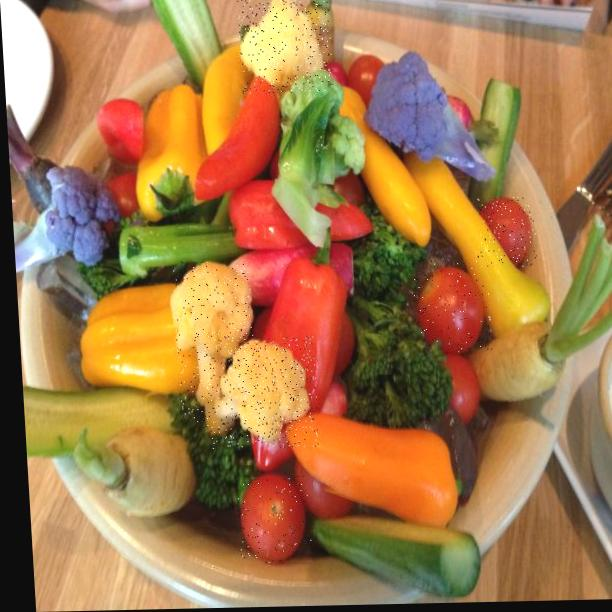Cauliflower: (172, 260, 259, 428), (204, 336, 320, 449), (237, 0, 334, 94)
Tomato: (412, 255, 493, 356), (235, 476, 313, 564), (476, 196, 538, 268)
